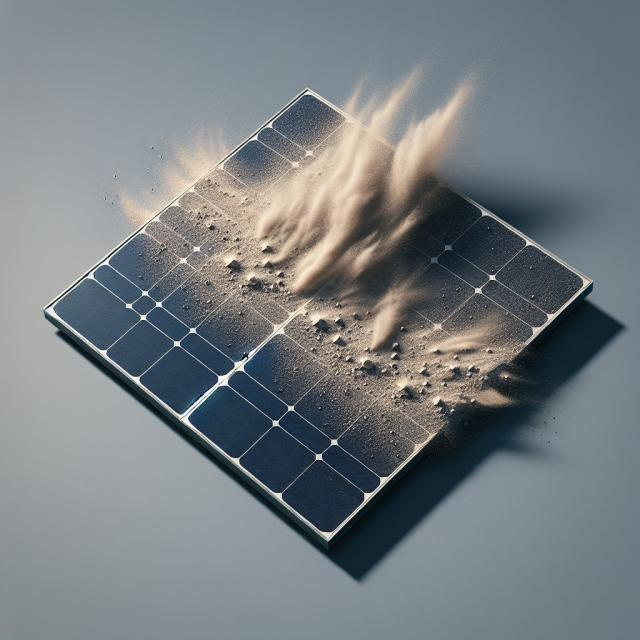Anomaly Solar Panel: (47, 23, 589, 565)
Surface Contaminant: (108, 44, 589, 503)
